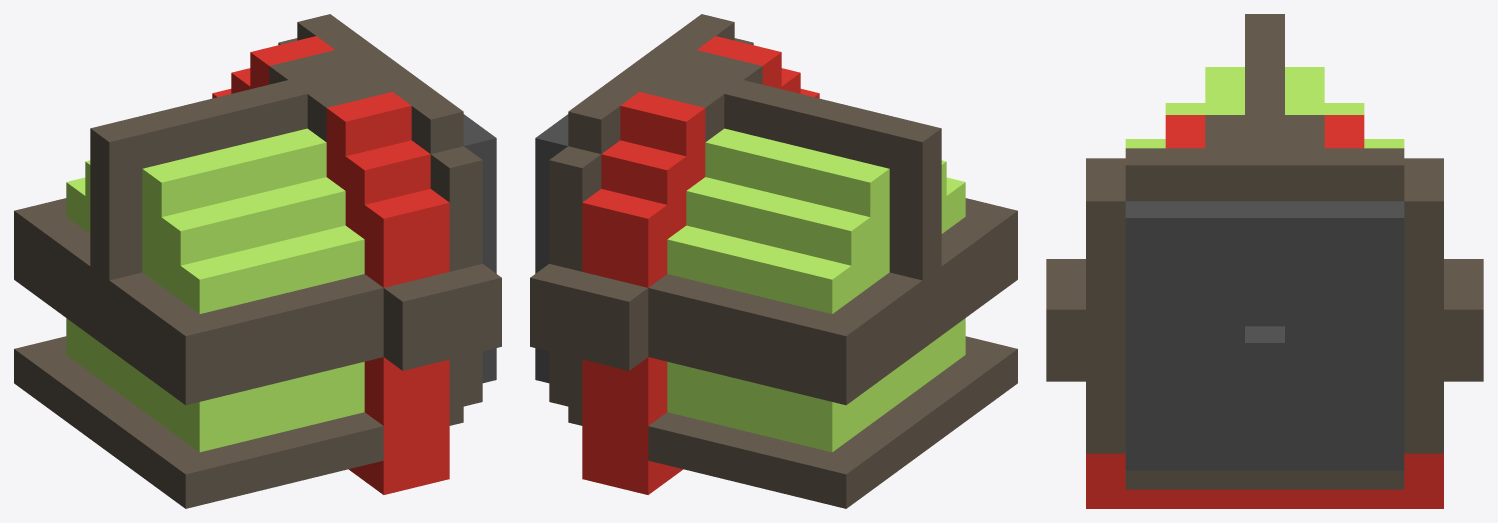
The model's file is WeaponBattery#2.obj.
The picture shows the model from 3 angles, left to right: view 1: azimuth 30°, elevation 25°; view 2: azimuth 150°, elevation 25°; view 3: azimuth 270°, elevation 25°; orthographic projection. The views are drawn at different scales.
Bounding box in the file's own units: 1.1 × 1 × 1.1.
1 material, 1 textured.
